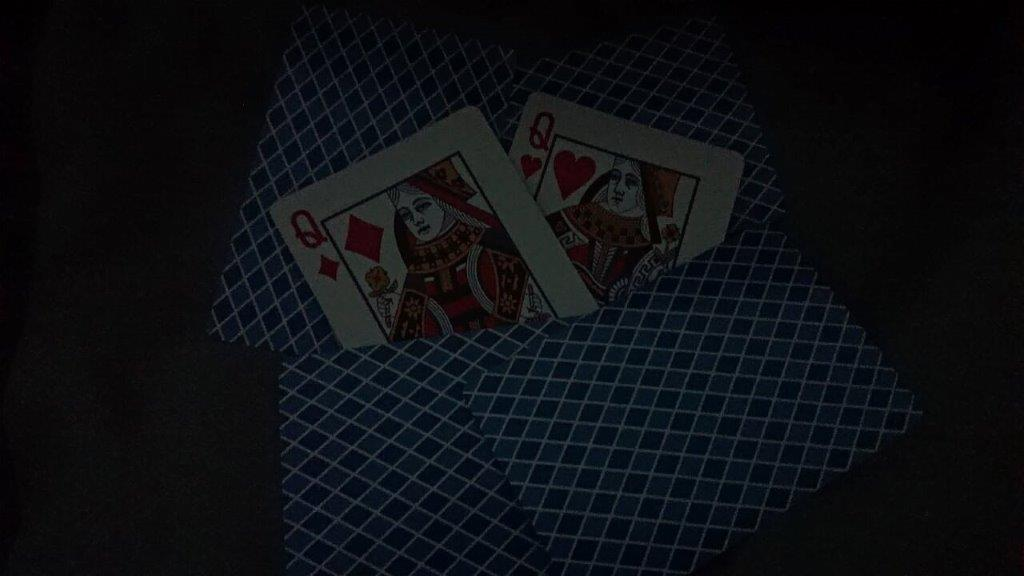BACK: (464, 223, 927, 576), (277, 333, 464, 576), (262, 1, 519, 105), (520, 19, 753, 91)
QD: (280, 199, 353, 291)
QH: (517, 104, 558, 190)
